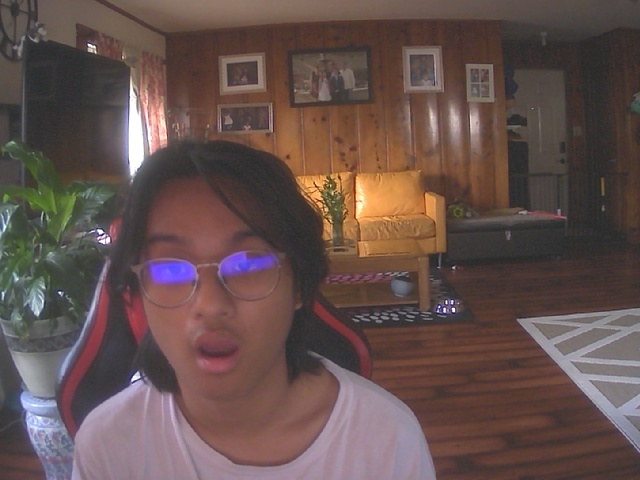fear: (126, 164, 311, 403)
